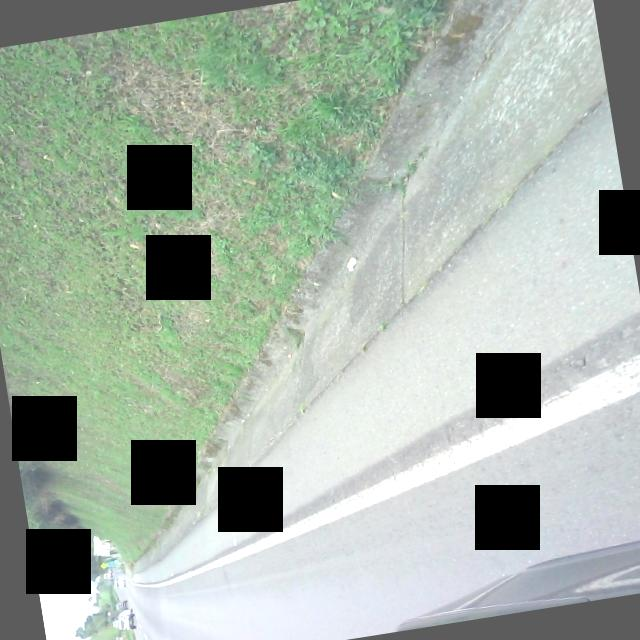DITCH: (38, 0, 640, 580)
